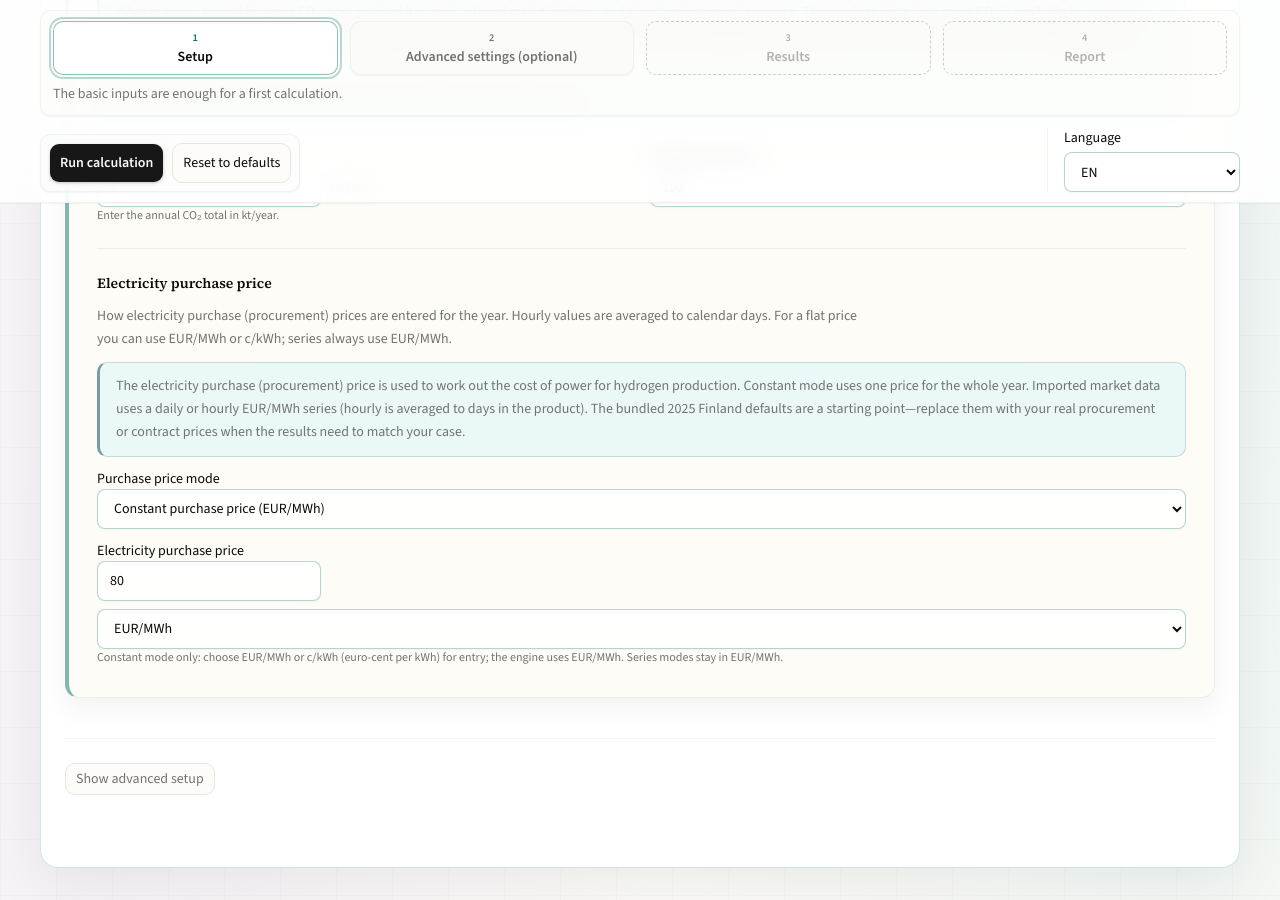
it: WP21 – commercial default price verify hints (UI) › hides hydrogen hint after the value is changed away from the factory default
(page scrolled)
Expected: the button "Run calculation" is shown, left=49, top=143, right=164, bottom=183
Click the button with test id "toggle-advanced-setup". click: (140, 779)
box: left=65, top=763, right=215, bottom=795
(page scrolled)
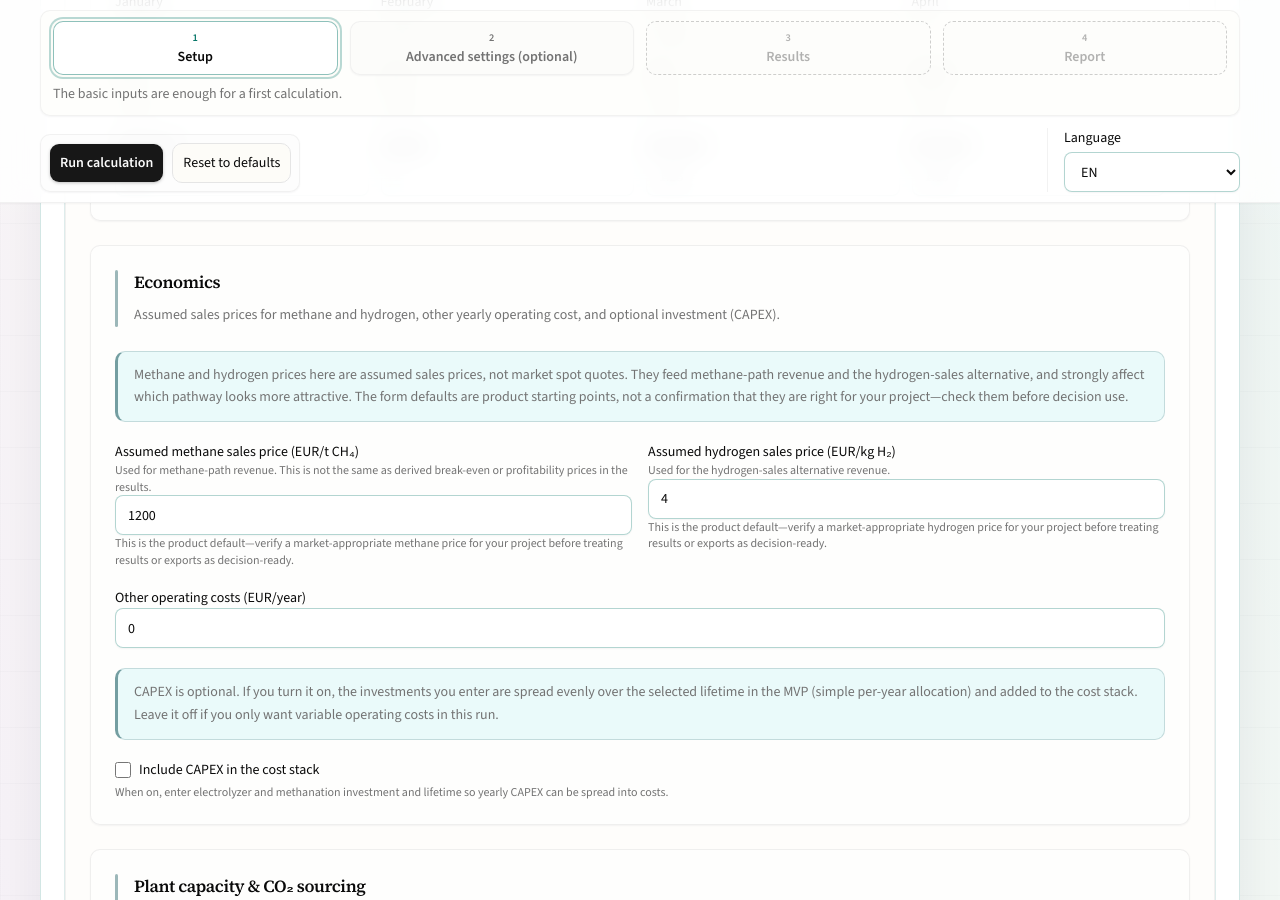
Replace the text in the field labelled "Assumed hydrogen sales price (EUR/kg H₂)" with "3.5". click: (906, 499)
box: left=648, top=479, right=1165, bottom=519
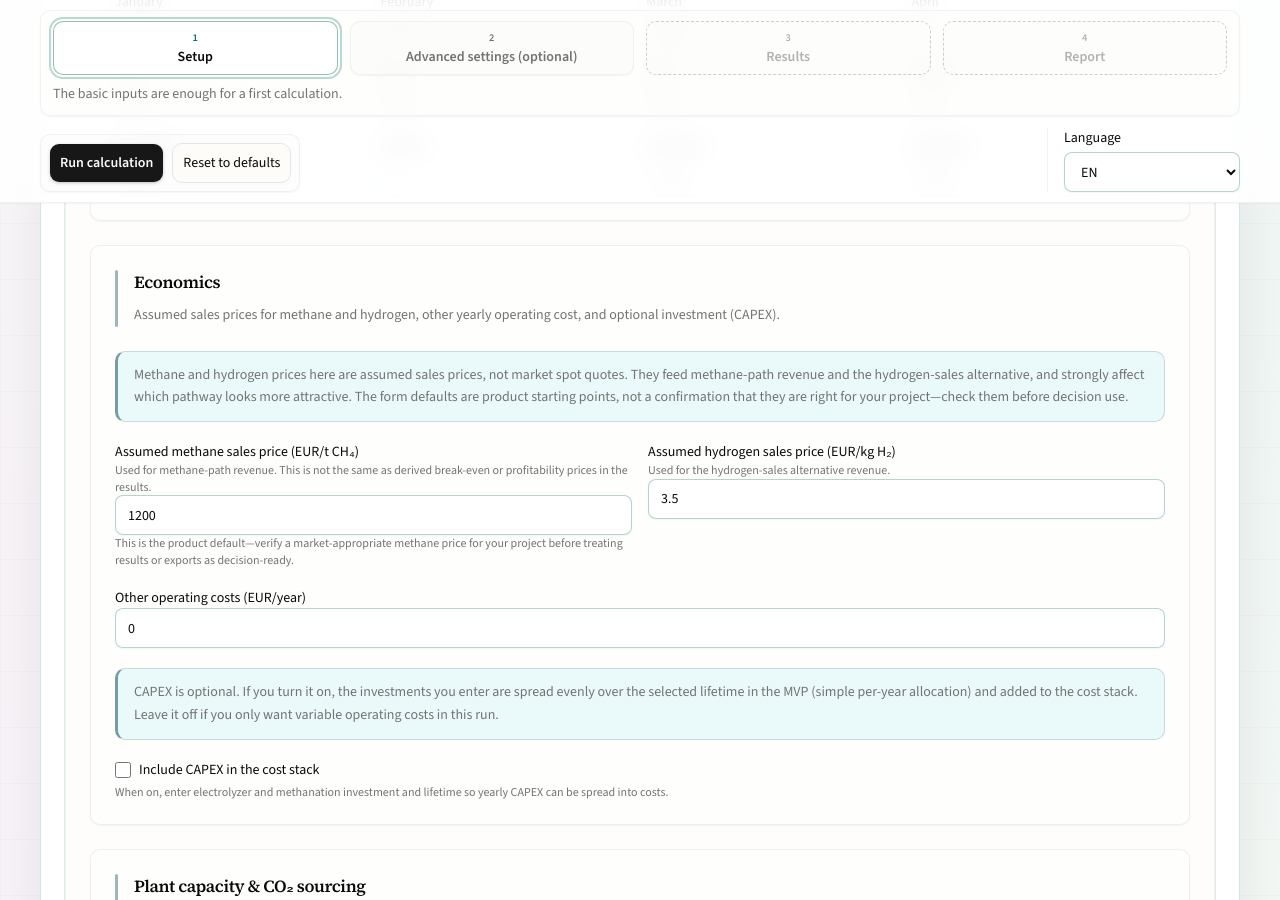
Expected: the text with test id "economics-hydrogen-default-verify-hint" is gone
